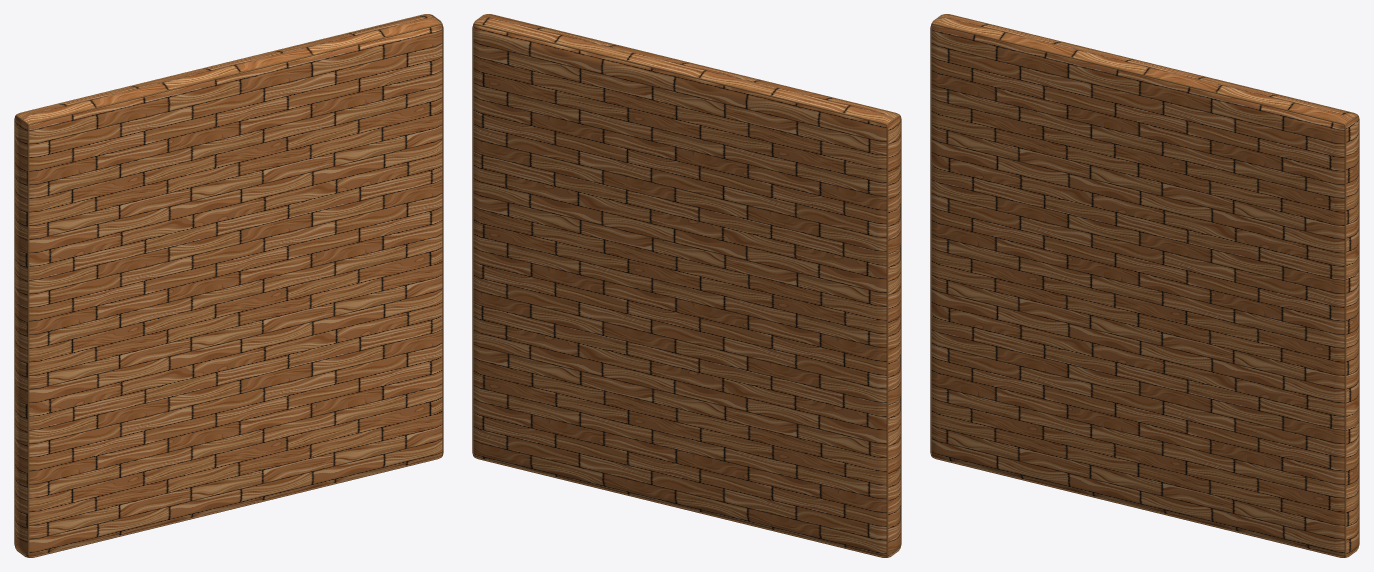
The model's file is SM_SoftFoam_Wall_20_3x3M.fbx.
3 renders of one model, left to right at view 1: azimuth 30°, elevation 25°; view 2: azimuth 150°, elevation 25°; view 3: azimuth 330°, elevation 25°, orthographic.
Visible parts, largest first — view 1: SM_SoftFoam_Wall_20_3x3; view 2: SM_SoftFoam_Wall_20_3x3; view 3: SM_SoftFoam_Wall_20_3x3.
Boxes of the visible parts, x1,y1,x2,y2 form: SM_SoftFoam_Wall_20_3x3: (14,14,443,557); SM_SoftFoam_Wall_20_3x3: (472,14,901,557); SM_SoftFoam_Wall_20_3x3: (930,14,1359,557).
Bounding box in the file's own units: 290 × 290 × 20.
